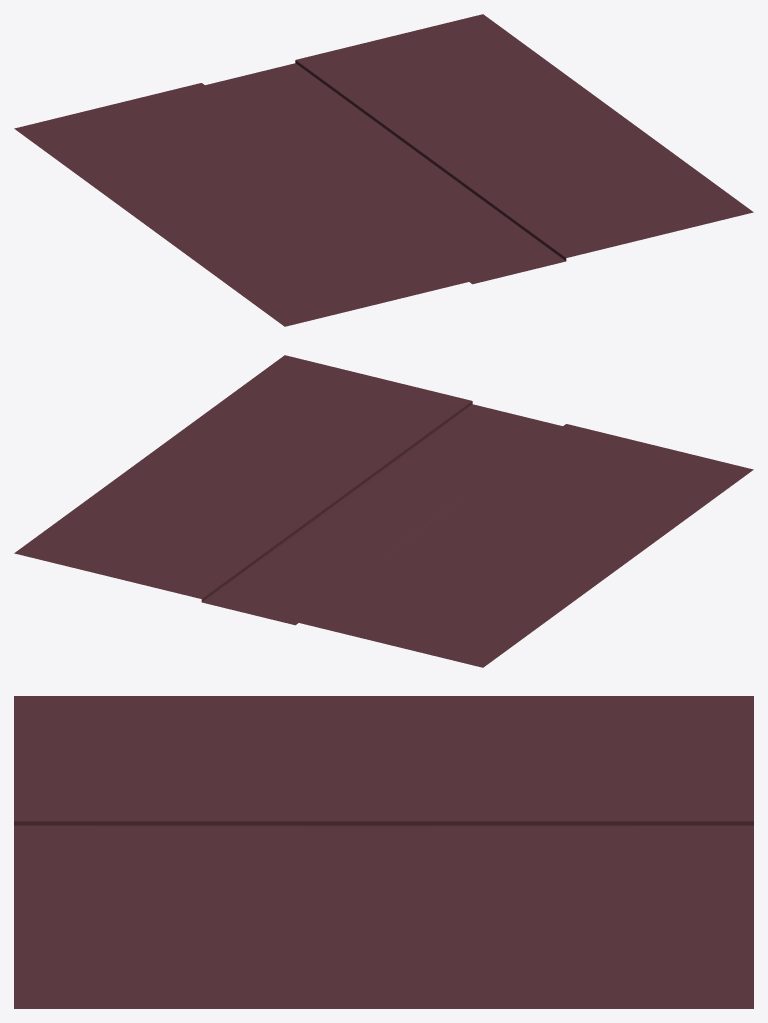
The model's file is tiles-nb-tile-road-straight-crosswalk-nb.glb.
The picture shows the model from 3 angles, top to bottom: view 1: azimuth 30°, elevation 25°; view 2: azimuth 150°, elevation 25°; view 3: azimuth 270°, elevation 25°; orthographic projection. The views are drawn at different scales.
Visible parts, largest first — view 1: tile-road-straight-crosswalk-nb; view 2: tile-road-straight-crosswalk-nb; view 3: tile-road-straight-crosswalk-nb.
Boxes of the visible parts, left/top/right/bottom form: tile-road-straight-crosswalk-nb: left=14, top=14, right=753, bottom=326; tile-road-straight-crosswalk-nb: left=14, top=355, right=753, bottom=667; tile-road-straight-crosswalk-nb: left=14, top=696, right=753, bottom=1008.
Size of the model in its own units: 30 by 0.2 by 30.
